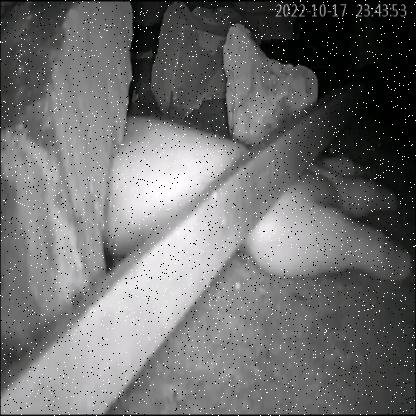hand: (118, 72, 416, 345)
